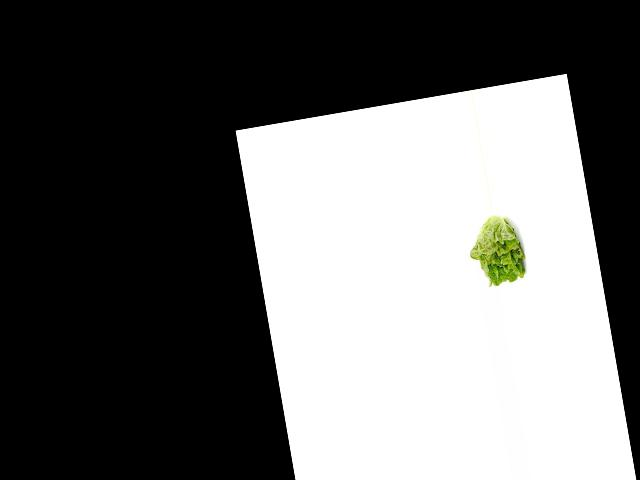lettuce: (465, 211, 532, 289)
